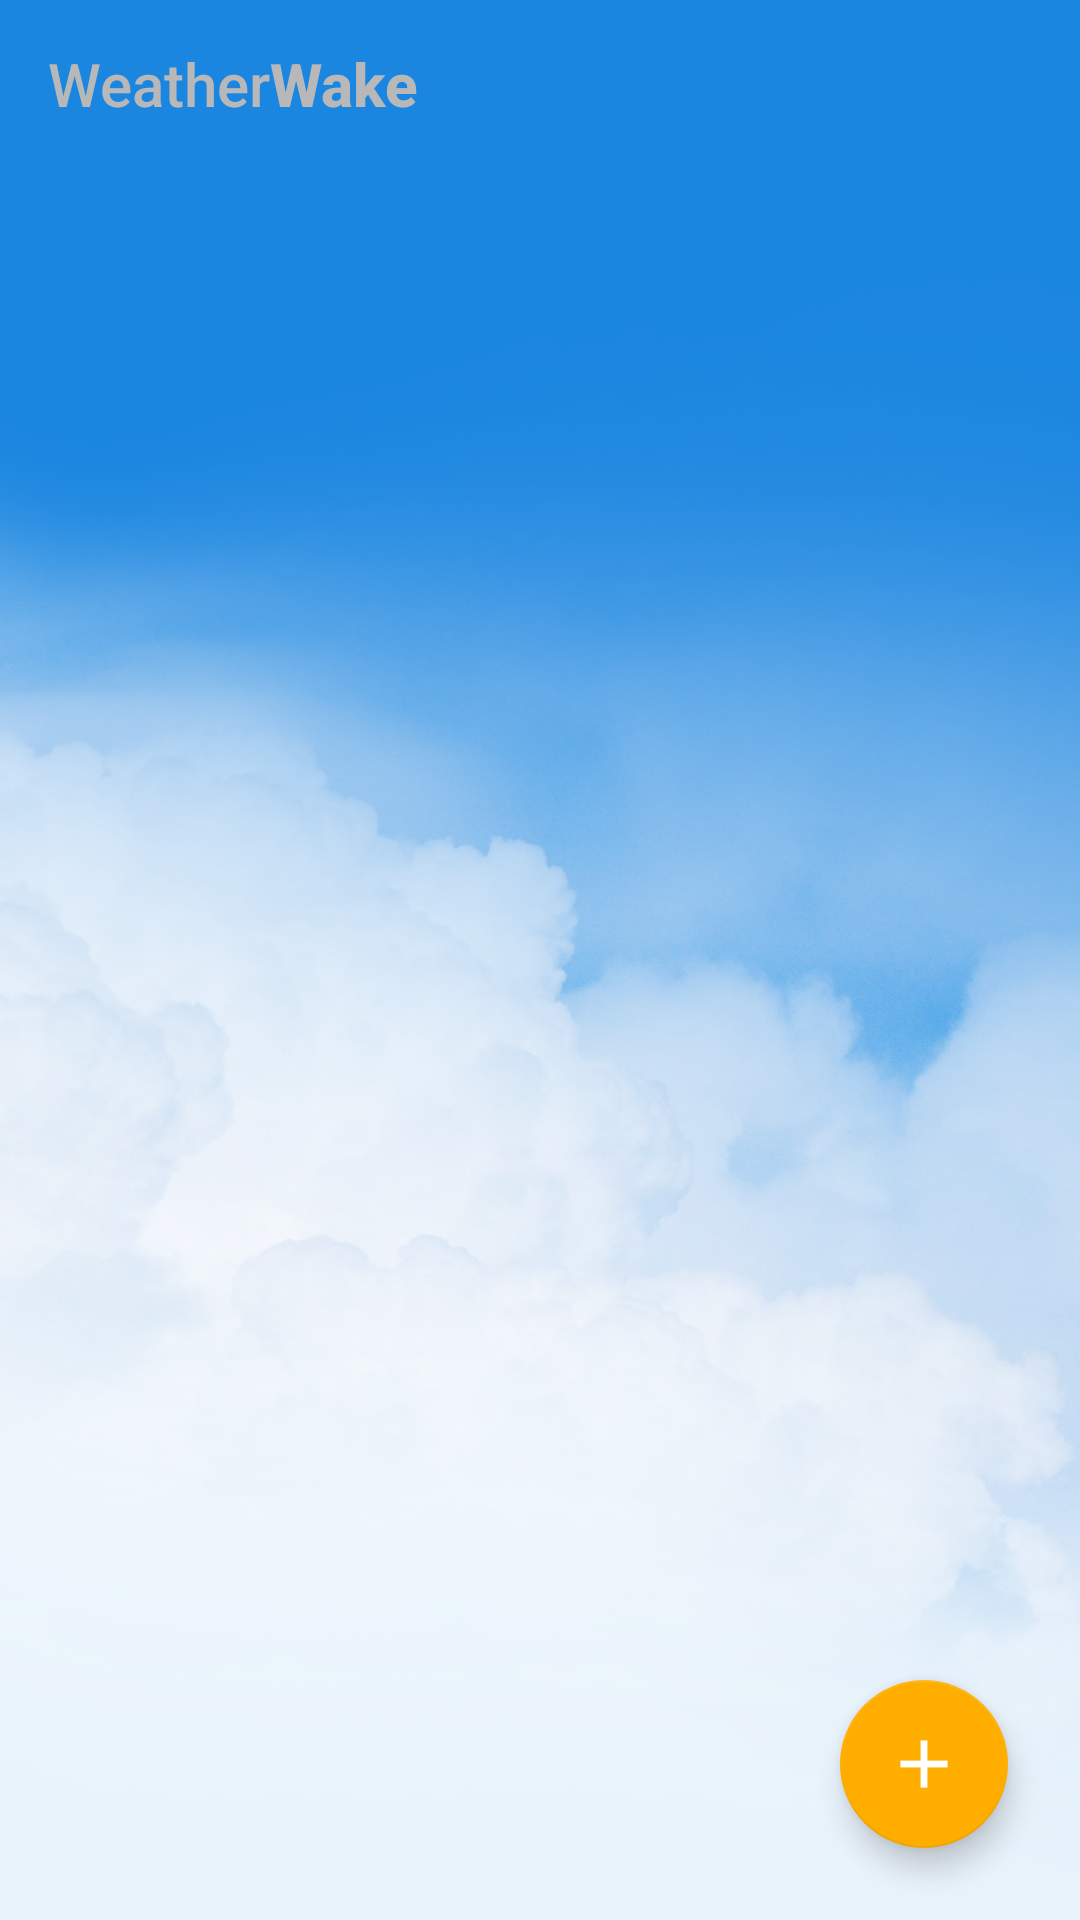

Locate icon controls on the screen. Image size 1080×1920, boxes as (x1, y1, x2, y2).
fab add: (840, 1680, 1008, 1848)
